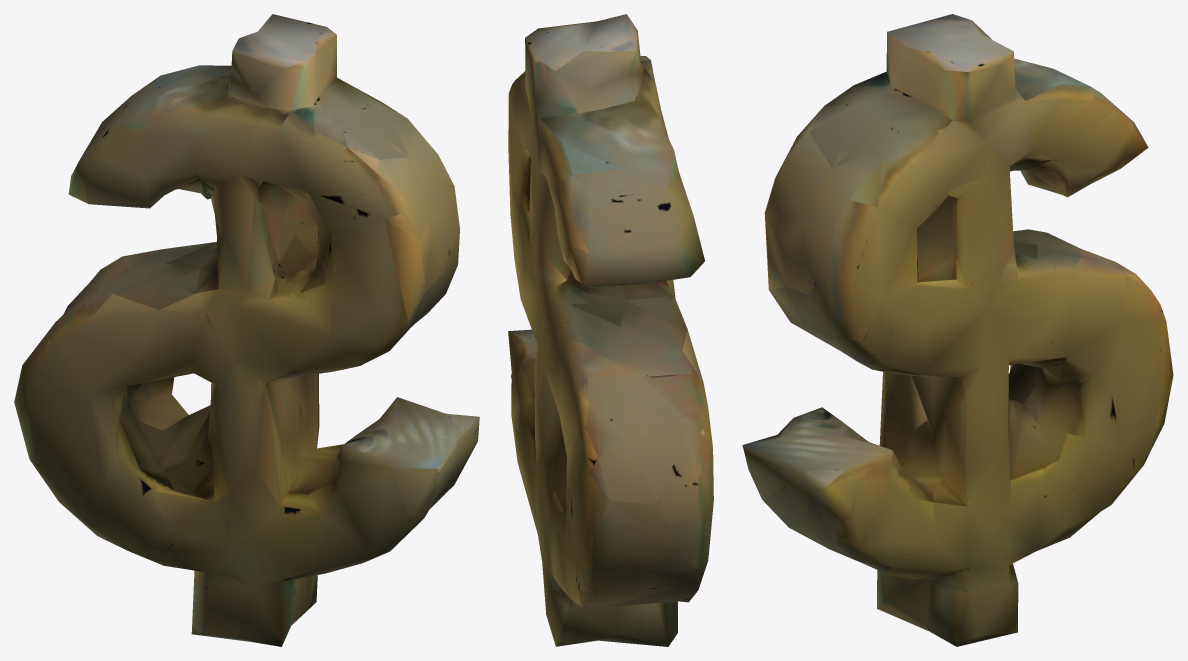
The model's file is dollar.glb.
The picture shows the model from 3 angles, left to right: view 1: azimuth 30°, elevation 25°; view 2: azimuth 150°, elevation 25°; view 3: azimuth 270°, elevation 25°; orthographic projection. The views are drawn at different scales.
Parts seen in each view (by area): view 1: mesh (3); view 2: mesh (3); view 3: mesh (3).
Boxes of the visible parts, x1,y1,x2,y2 form: mesh (3): [14, 14, 479, 646]; mesh (3): [508, 14, 713, 646]; mesh (3): [742, 14, 1173, 646].
Bounding box in the file's own units: 0.602 × 1.02 × 0.6667.
Materials: 1 (1 with a texture image).
